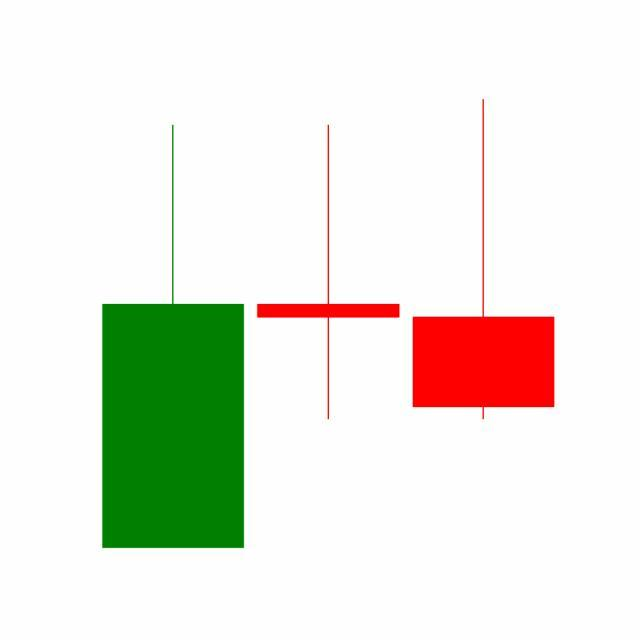Spinning Top: (250, 122, 407, 424)
